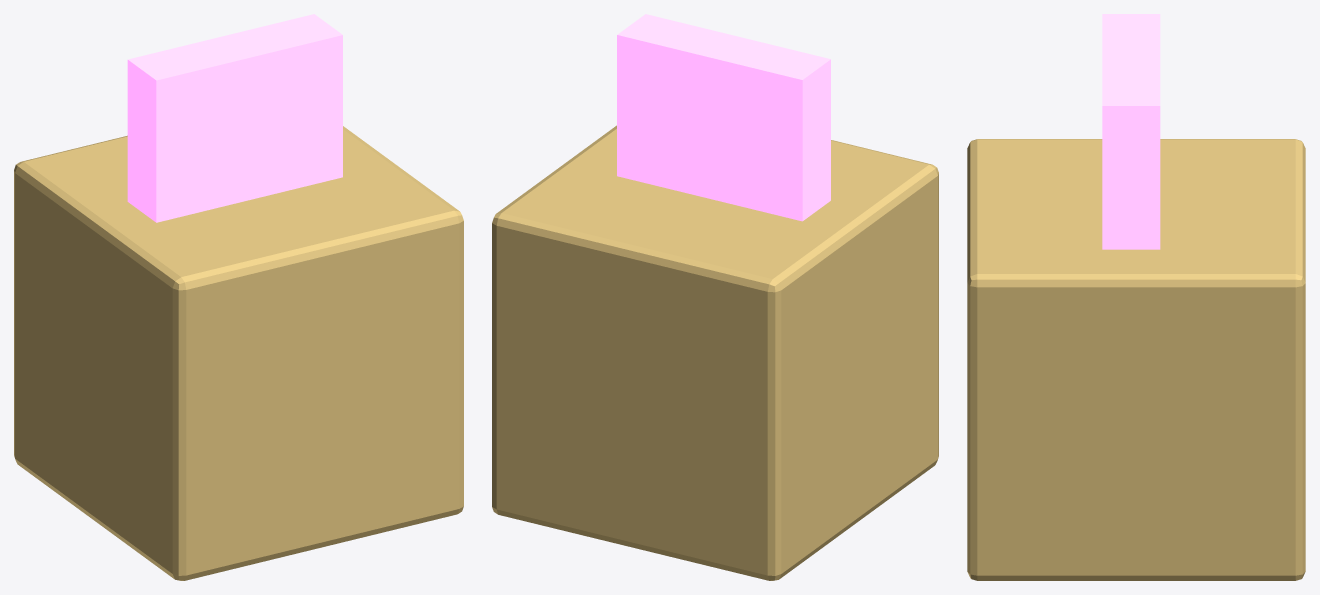
File: SM_Keeper_OverlordEcho_Frag6.fbx
3 renders of one model, left to right at view 1: azimuth 30°, elevation 25°; view 2: azimuth 150°, elevation 25°; view 3: azimuth 270°, elevation 25°, orthographic.
Parts seen in each view (by area): view 1: SM_Keeper_OverlordEcho_Frag6; view 2: SM_Keeper_OverlordEcho_Frag6; view 3: SM_Keeper_OverlordEcho_Frag6.
Part boxes in pixels (bbox=[...]): SM_Keeper_OverlordEcho_Frag6: bbox=[14, 14, 463, 580]; SM_Keeper_OverlordEcho_Frag6: bbox=[492, 14, 938, 580]; SM_Keeper_OverlordEcho_Frag6: bbox=[967, 14, 1305, 580].
Bounding box in the file's own units: 1 × 1.47 × 1.
